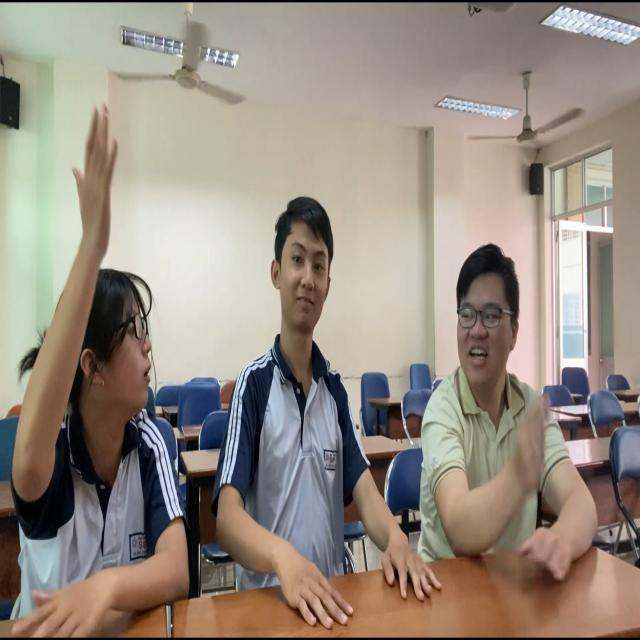raise_hand: (1, 87, 220, 640), (413, 243, 619, 628)
